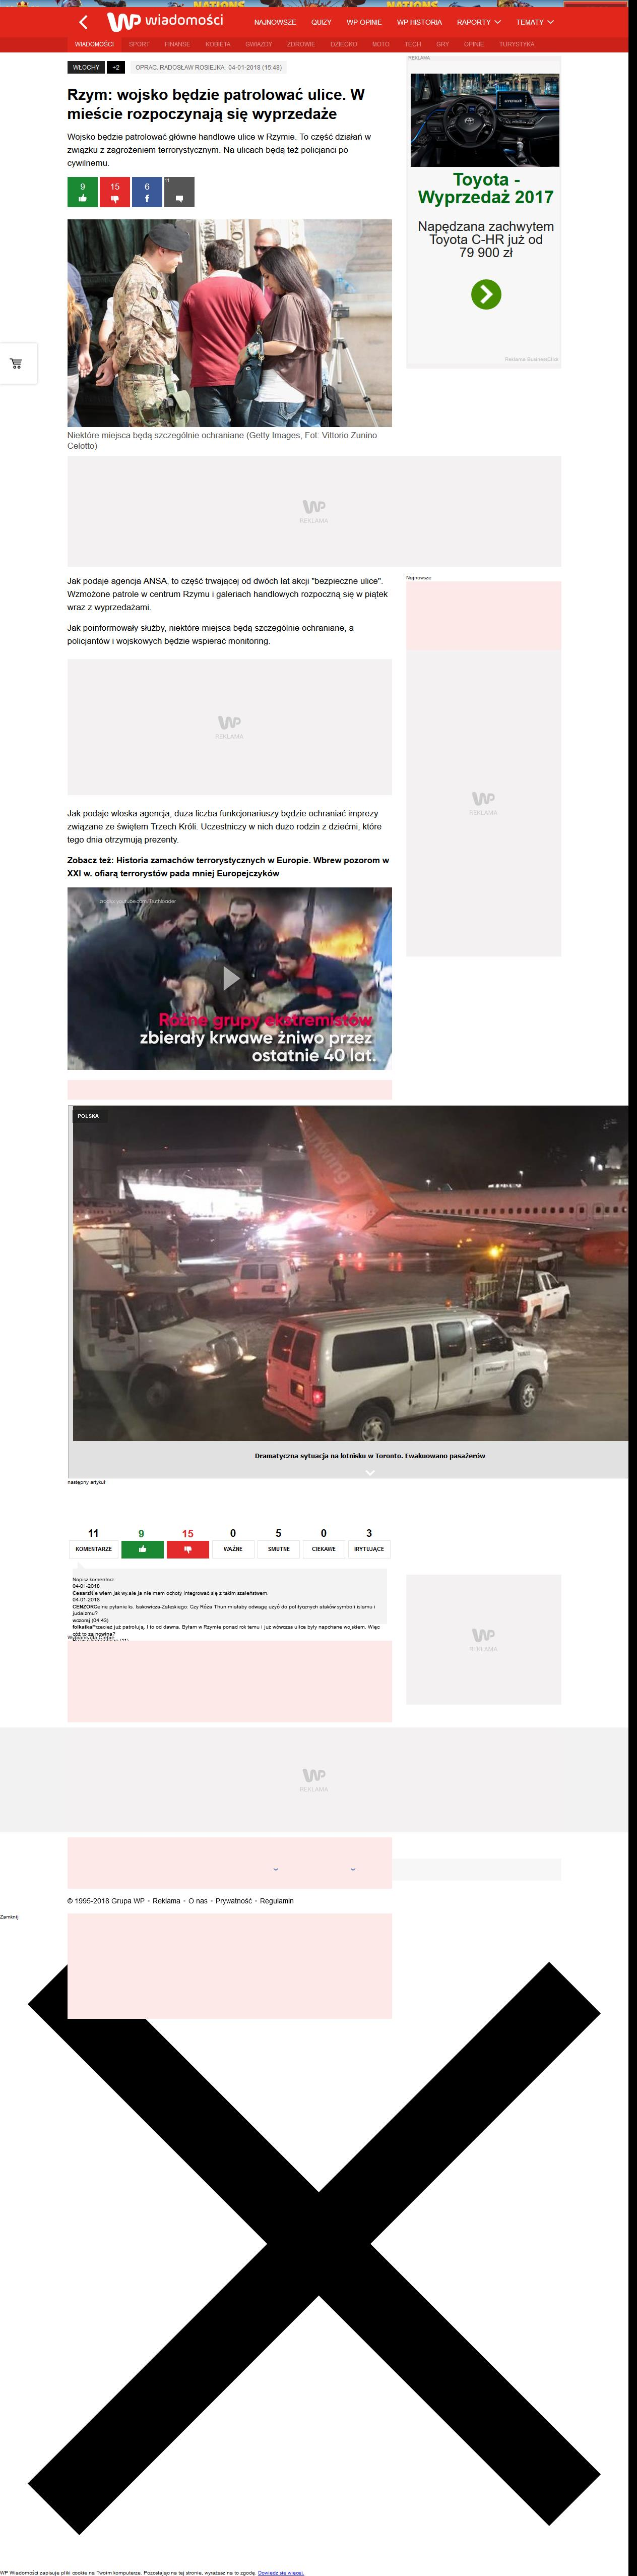title: (67, 87, 366, 122)
